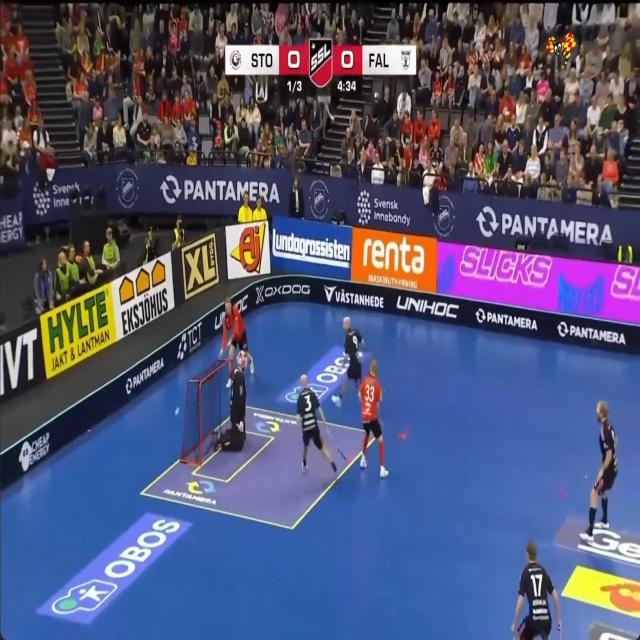Balls: (175, 407, 179, 414)
player: (579, 400, 617, 540), (511, 541, 561, 639), (297, 374, 337, 472), (358, 360, 388, 477), (215, 352, 246, 450), (331, 317, 364, 407), (220, 297, 253, 387)
stick: (325, 422, 347, 461)
